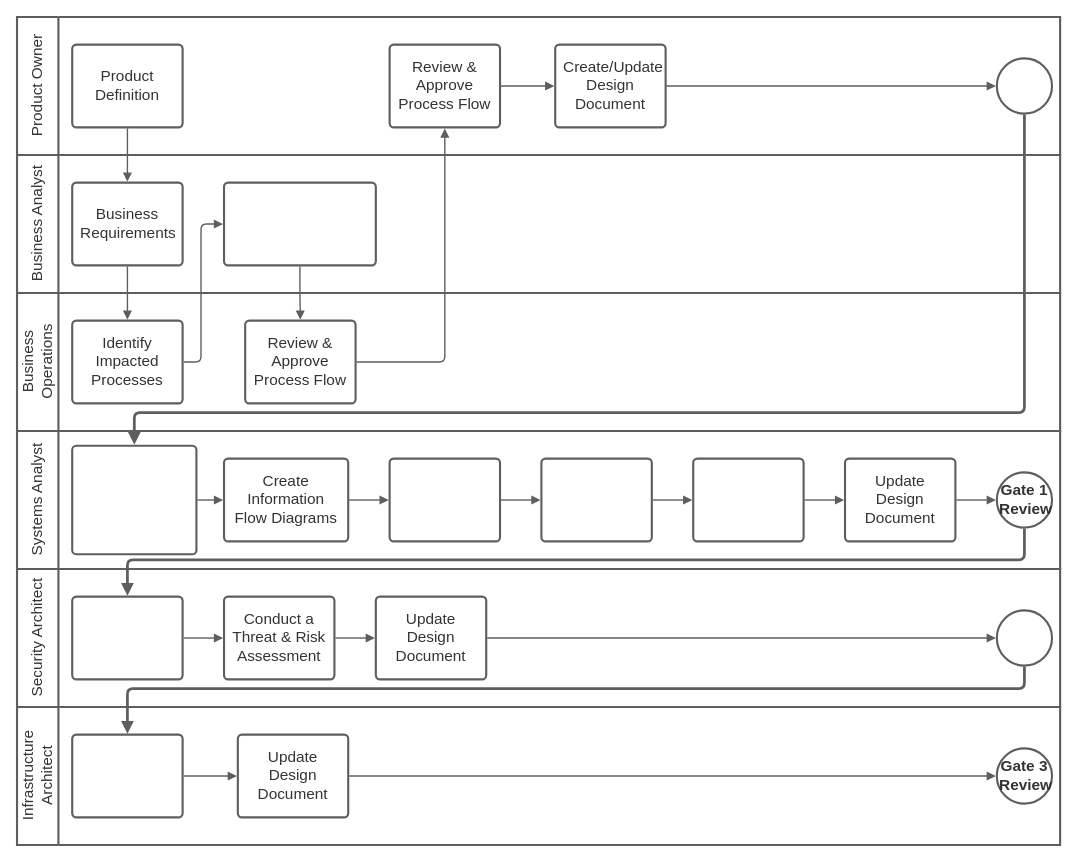
This 1077x862 diagram has some shape labels left out. Each missing label, with the centre of its shape:
"Create New Process or Update Existing Process Flow" goes at pixel 299 223.
"Gate 0 NIAC" goes at pixel 1024 85.
"Gate 2 Review" goes at pixel 1024 637.
"Identify Application Configuration" goes at pixel 444 499.
"Identify Infrastructure Impacts" goes at pixel 127 775.
"Identify Security Impacts" goes at pixel 127 637.
"Identify Systems Configuration" goes at pixel 596 499.
"Identify Systems Impacts & Technical Requirements" goes at pixel 134 499.
"Identify User Roles in the application" goes at pixel 748 499.
